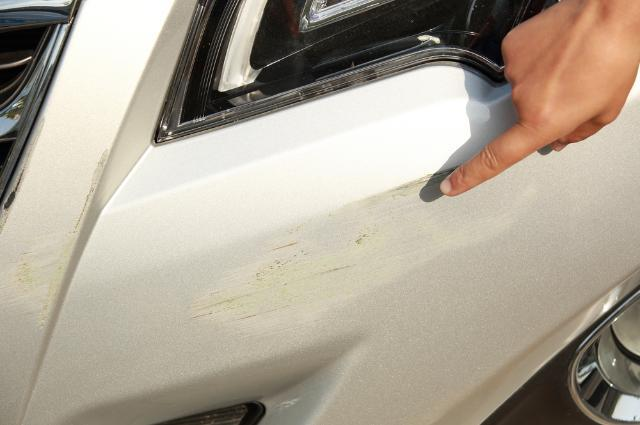scratch: (181, 167, 550, 332), (0, 115, 114, 334)
